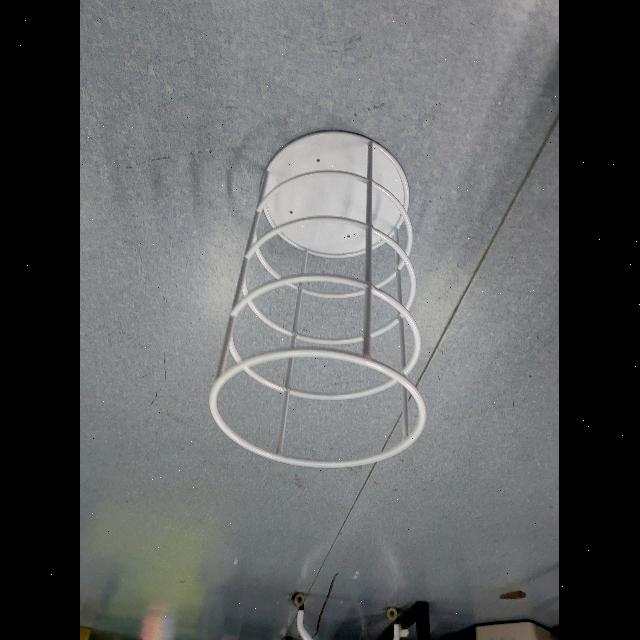S: (208, 126, 430, 472)
